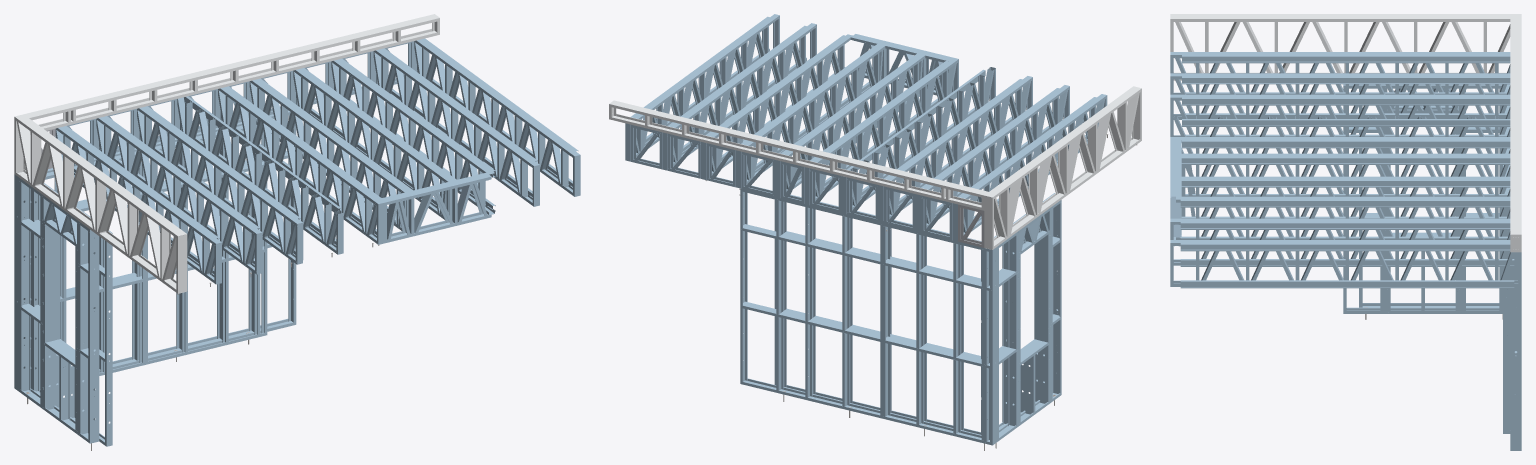
The model's file is m2-wall-panel.glb.
3 views of the same model, side by side, from view 1: azimuth 30°, elevation 25°; view 2: azimuth 150°, elevation 25°; view 3: azimuth 270°, elevation 25° (orthographic). The views are drawn at different scales.
Visible parts, largest first — view 1: part_01, part_04; view 2: part_01, part_04, part_02; view 3: part_01, part_04.
Boxes of the visible parts, x1,y1,x2,y2 form: part_01: (14, 38, 580, 446); part_04: (14, 14, 439, 293); part_01: (625, 14, 1107, 445); part_04: (609, 86, 1141, 249); part_02: (958, 204, 984, 247); part_01: (1170, 52, 1521, 450); part_04: (1170, 14, 1521, 252).
Size of the model in its own units: 6.31 by 4.05 by 4.25.
